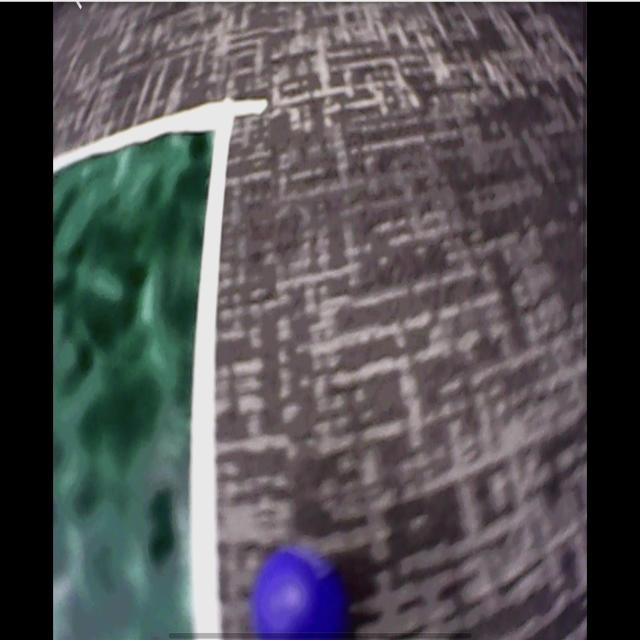ball: (251, 549, 344, 640)
